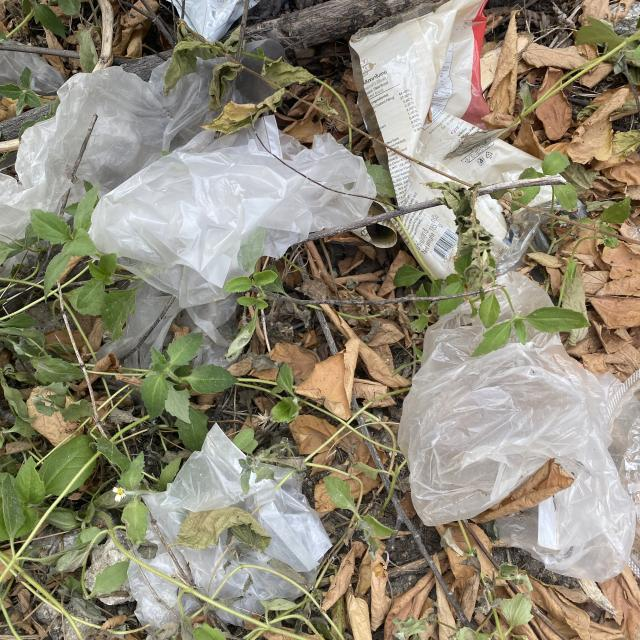Single-layer Plastic: (399, 304, 635, 580), (90, 116, 376, 309), (129, 425, 331, 628), (0, 68, 170, 240)
